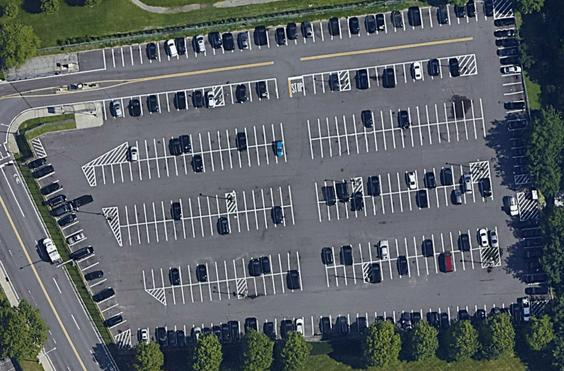parkingspot: (102, 0, 496, 71), (130, 300, 533, 349), (27, 154, 133, 338), (93, 142, 288, 187), (309, 117, 487, 161), (317, 180, 494, 224), (118, 204, 295, 248), (323, 225, 499, 269), (307, 97, 484, 140), (302, 55, 462, 98), (126, 121, 284, 163), (492, 16, 533, 177), (315, 162, 474, 203), (142, 250, 301, 291), (326, 248, 484, 289), (102, 86, 216, 122), (116, 192, 229, 228), (519, 218, 552, 303), (163, 278, 240, 307), (221, 77, 279, 107), (245, 270, 304, 299), (234, 184, 292, 213)
